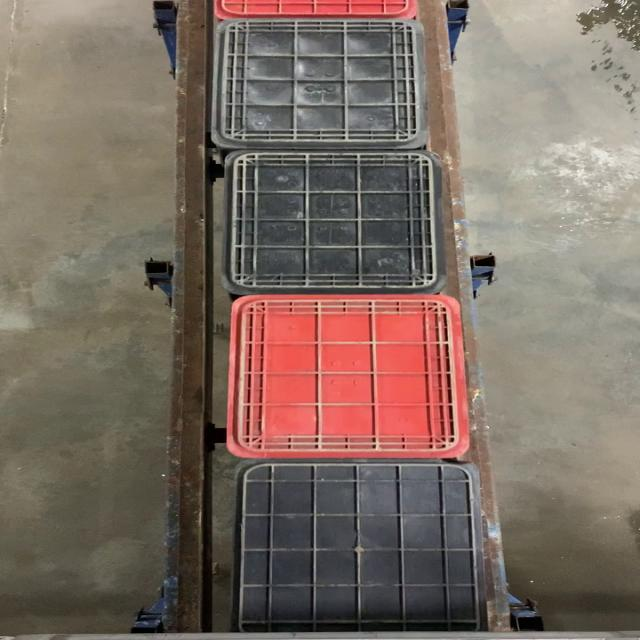Box: (233, 294, 471, 458), (224, 152, 447, 292), (218, 17, 432, 153)
